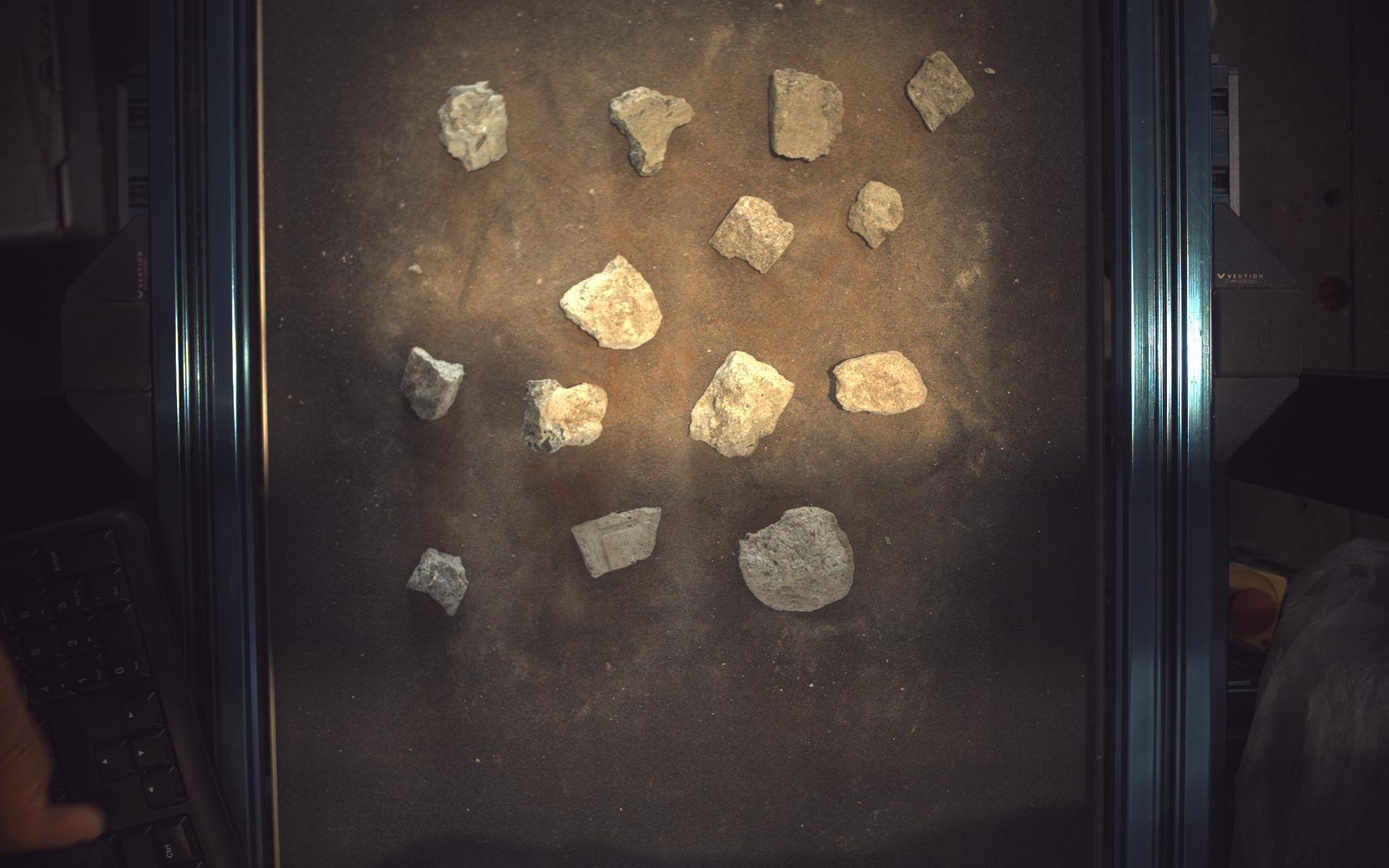concrete: (740, 507, 856, 613), (691, 351, 796, 457), (560, 255, 663, 349), (611, 85, 694, 175), (770, 67, 844, 161), (711, 195, 795, 273), (572, 508, 663, 579), (438, 80, 508, 170), (523, 379, 608, 453), (834, 352, 929, 414), (908, 49, 976, 130), (400, 346, 464, 420), (407, 548, 469, 616), (849, 180, 906, 248)
